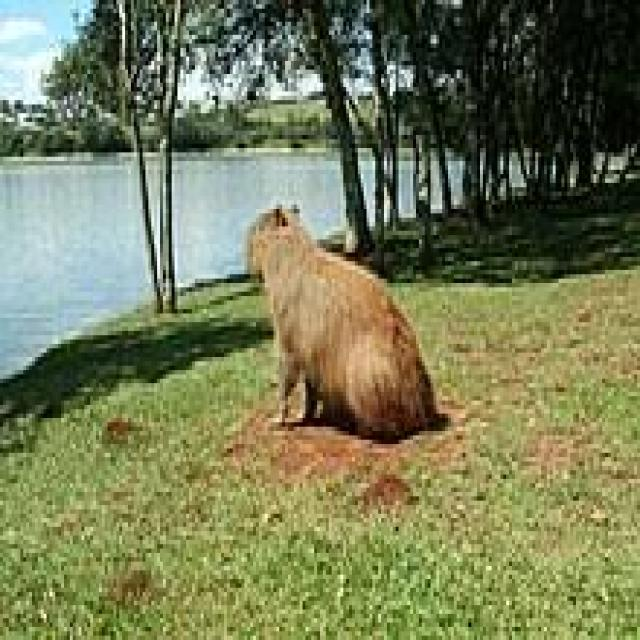capy: (243, 202, 425, 442)
